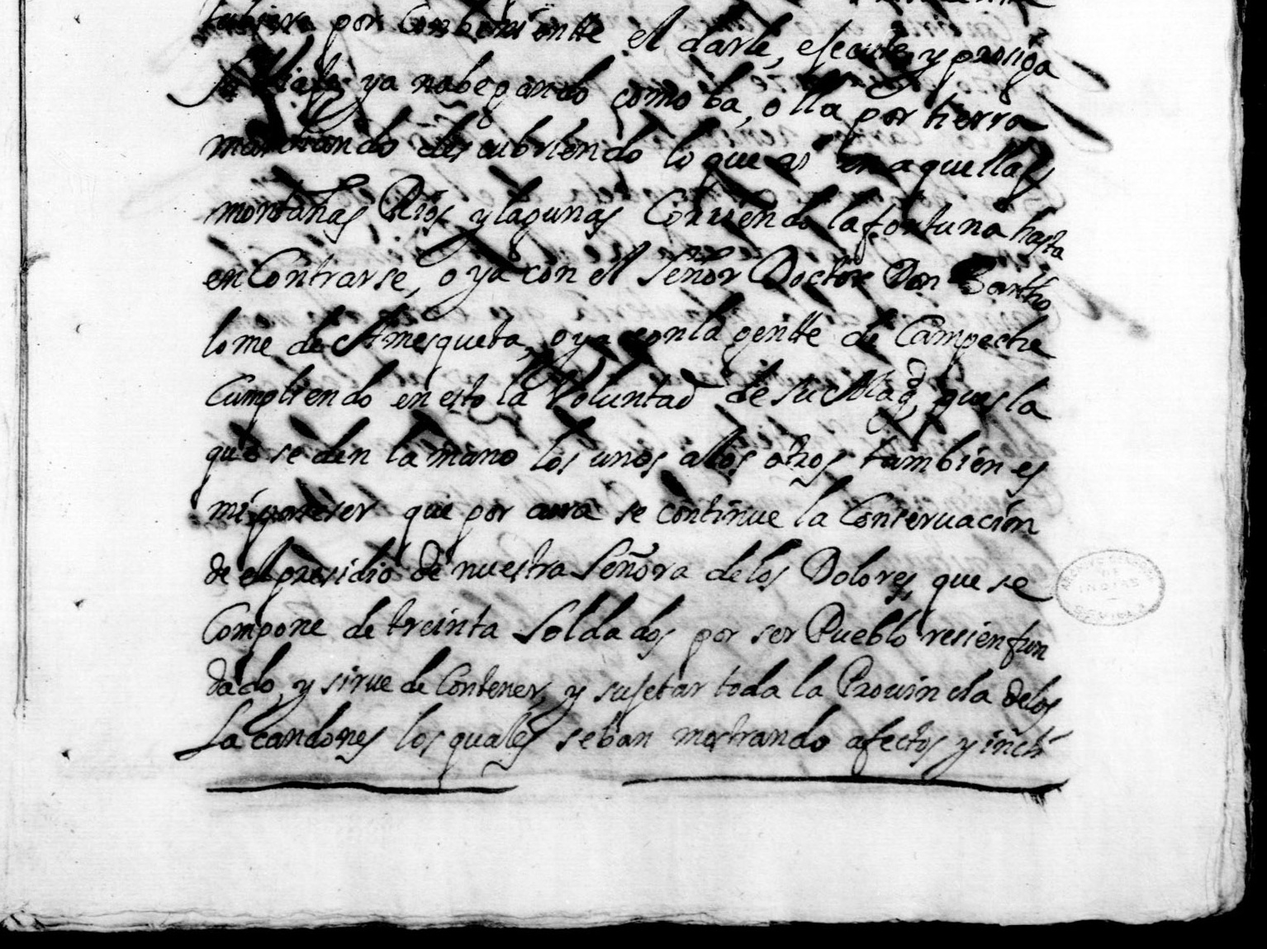lacandon: (173, 697, 387, 764)
